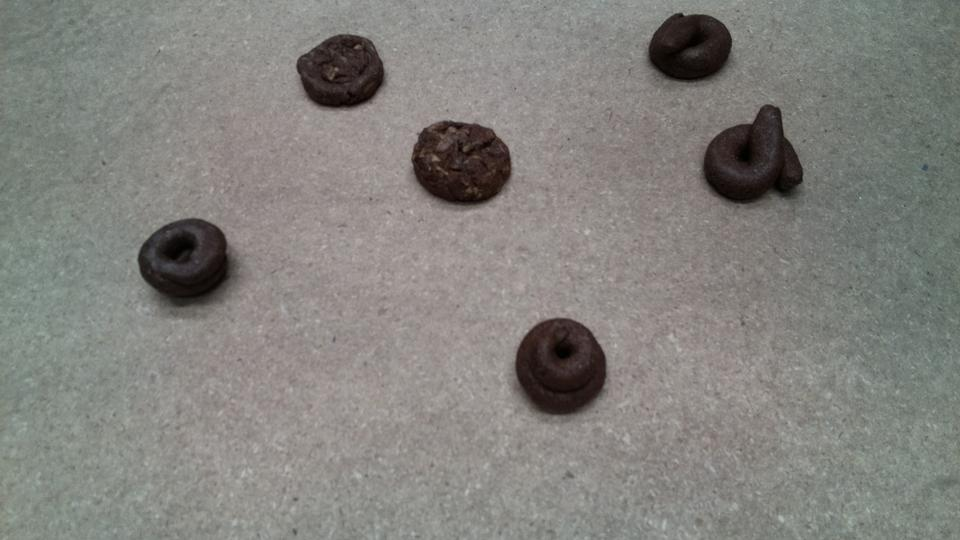poop: (700, 102, 806, 207), (513, 314, 611, 420), (407, 116, 514, 210), (135, 213, 233, 303), (294, 31, 388, 110), (645, 9, 737, 87)
